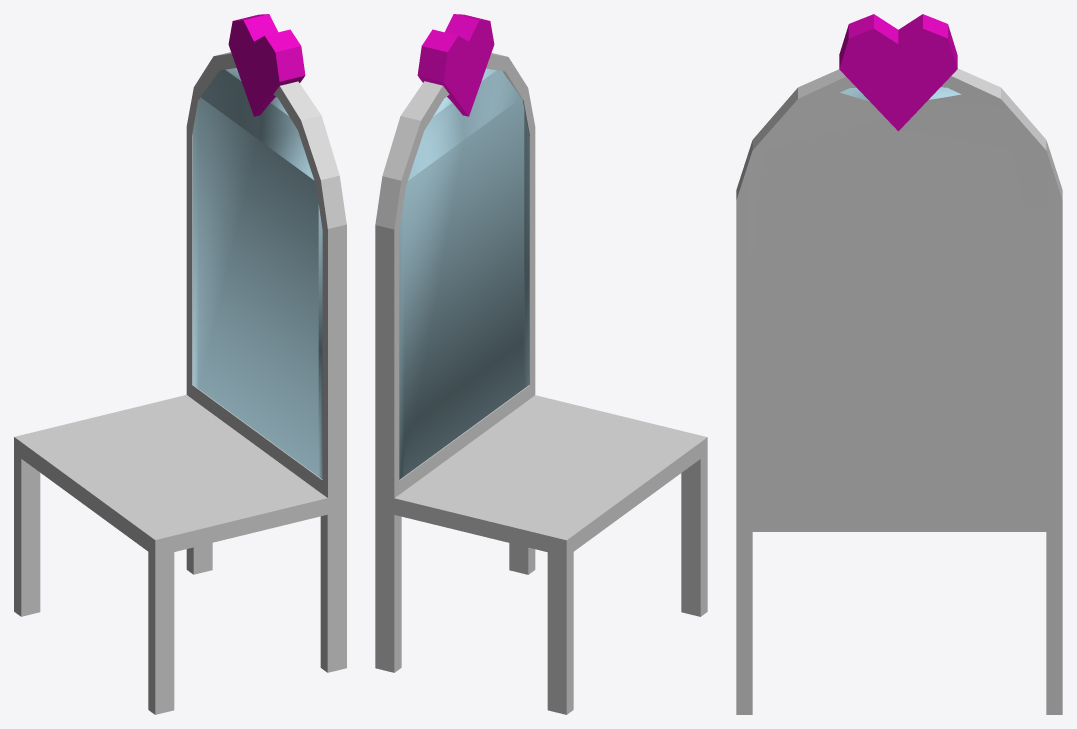
Rendered from SILLA CORTE DE PELO.fbx.
The picture shows the model from 3 angles, left to right: view 1: azimuth 30°, elevation 25°; view 2: azimuth 150°, elevation 25°; view 3: azimuth 270°, elevation 25°; orthographic projection. The views are drawn at different scales.
Parts seen in each view (by area): view 1: mesa_peluqueria, espejo, CORAZONES; view 2: mesa_peluqueria, espejo, CORAZONES; view 3: mesa_peluqueria, CORAZONES.
Part boxes in pixels (left/top/right/bottom): mesa_peluqueria: left=14, top=52, right=346, bottom=714; espejo: left=192, top=68, right=322, bottom=479; CORAZONES: left=228, top=14, right=305, bottom=116; mesa_peluqueria: left=375, top=53, right=707, bottom=714; espejo: left=399, top=68, right=529, bottom=479; CORAZONES: left=417, top=14, right=494, bottom=116; mesa_peluqueria: left=736, top=68, right=1062, bottom=714; CORAZONES: left=839, top=14, right=957, bottom=131.
Size of the model in its own units: 152 by 443 by 191.
